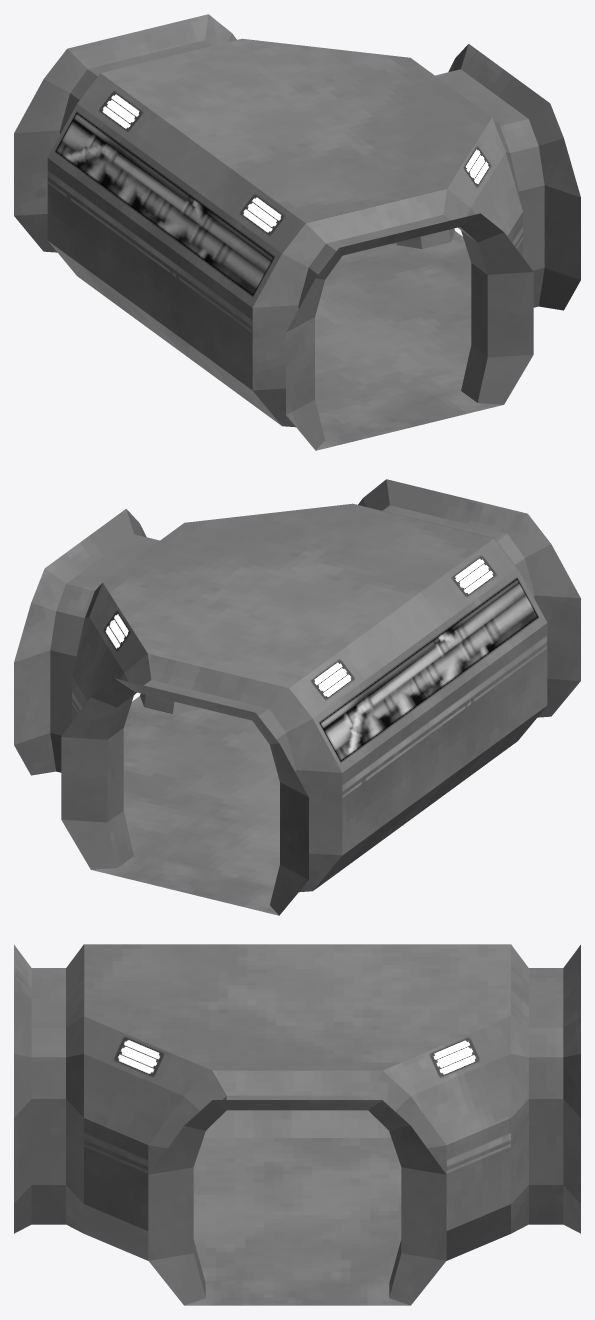
File: hallway_oct_3x_tex.fbx
The picture shows the model from 3 angles, top to bottom: view 1: azimuth 30°, elevation 25°; view 2: azimuth 150°, elevation 25°; view 3: azimuth 270°, elevation 25°; orthographic projection. The views are drawn at different scales.
Visible parts, largest first — view 1: hallway_oct.004; view 2: hallway_oct.004; view 3: hallway_oct.004.
Part boxes in pixels (x1,y1,x2,y2): hallway_oct.004: (14, 14, 580, 450); hallway_oct.004: (14, 479, 580, 915); hallway_oct.004: (14, 944, 580, 1305).
Bounding box in the file's own units: 763 × 400 × 1000.
1 material, 1 textured.
